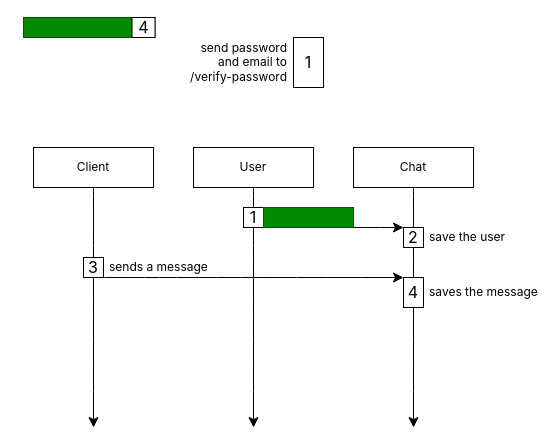
Image size: 559x444. Some labels were removed from this diagram. The box of each missing label's shape, as (x1, y1, x2, y2) in pixels:
user.created: (262, 206, 354, 228)
workspace.created: (22, 16, 132, 38)
